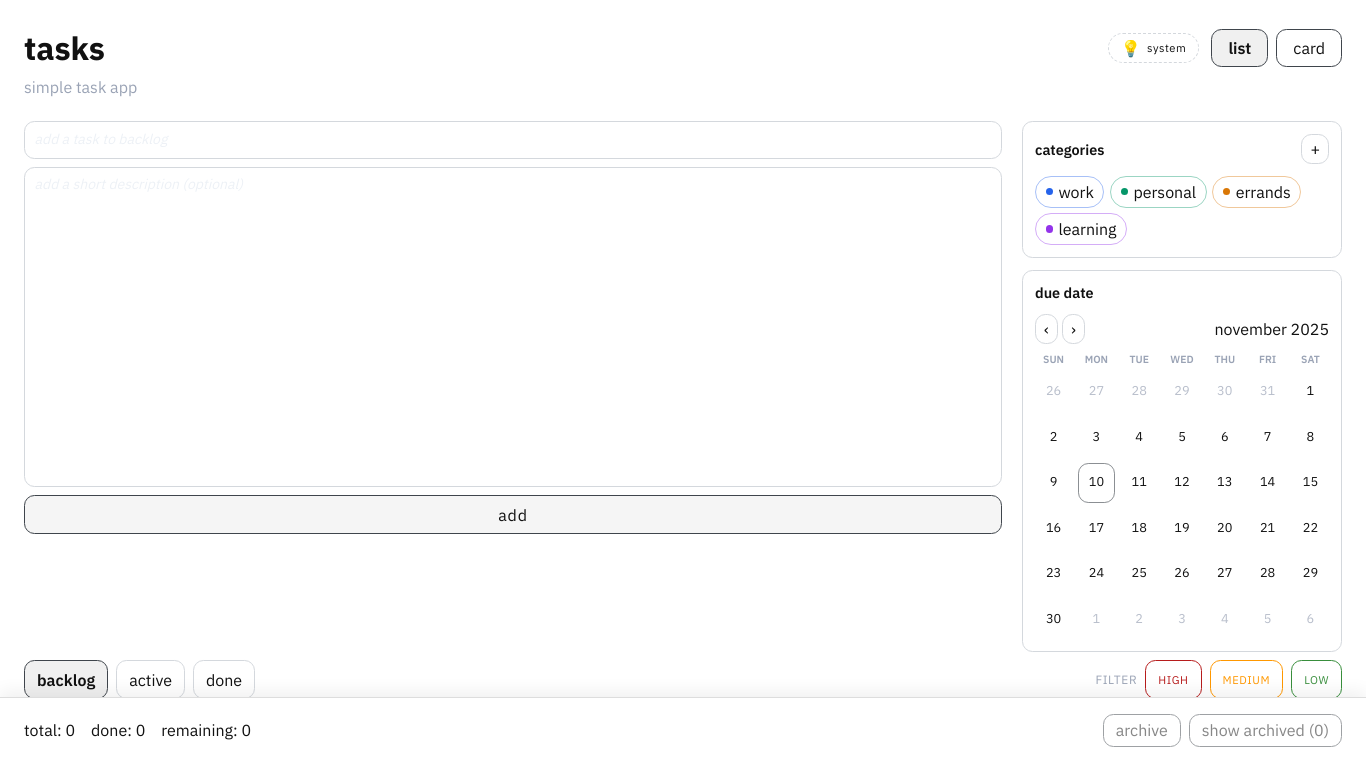
Test case: App › lets users create a custom category and apply it to a todo
Click the button named "add a new category" at (1315,149), box [1301,134,1329,164]
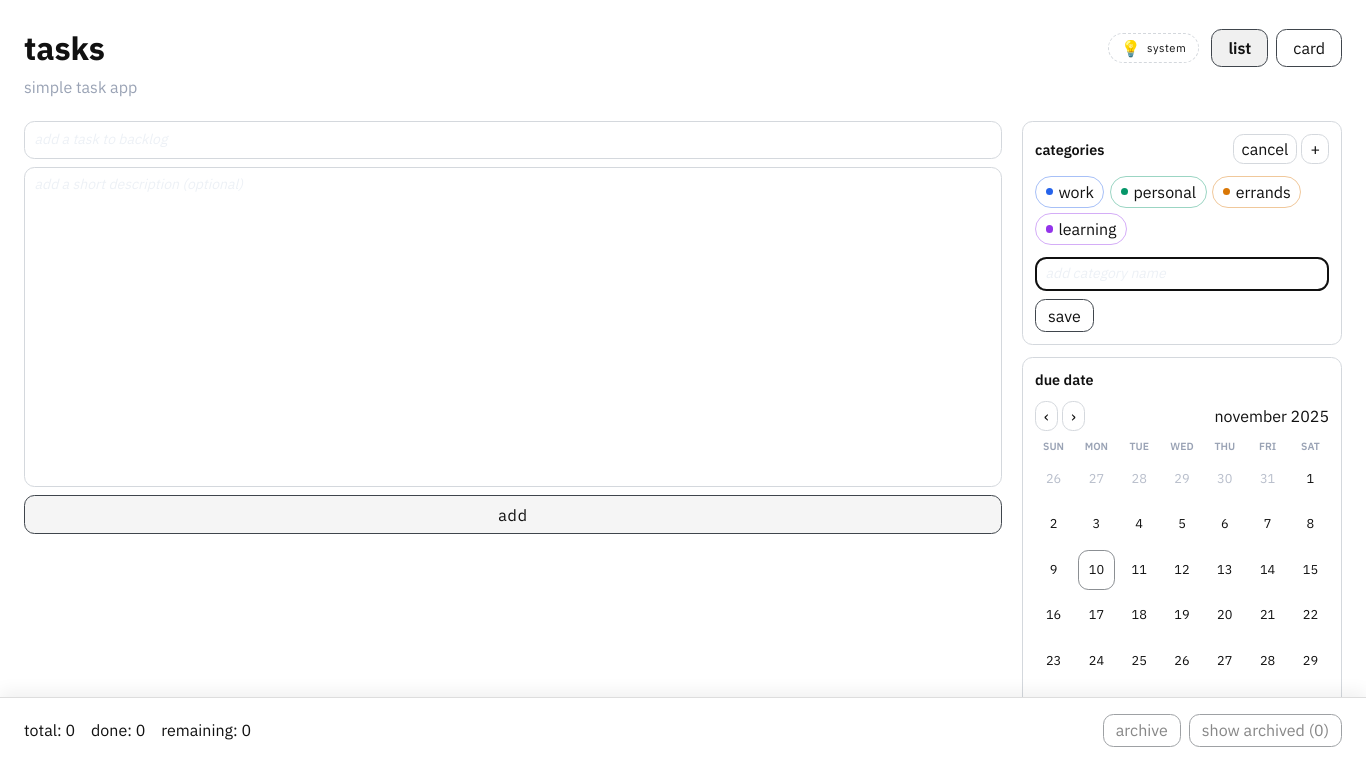
Type "fitness" into the field with placeholder "add category name" at (1182,274), box [1035,257,1329,291]
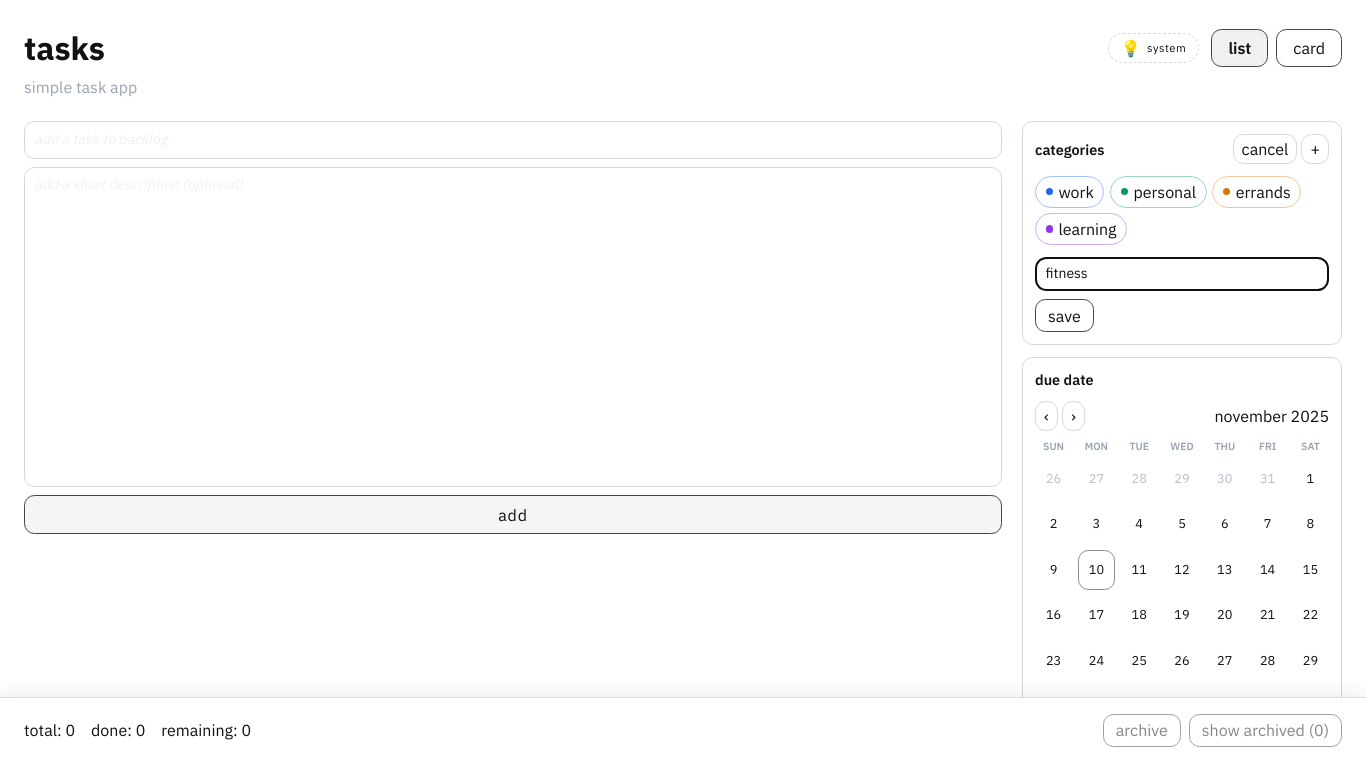
Click the button "save" at (1064,316), box [1035,299,1094,332]
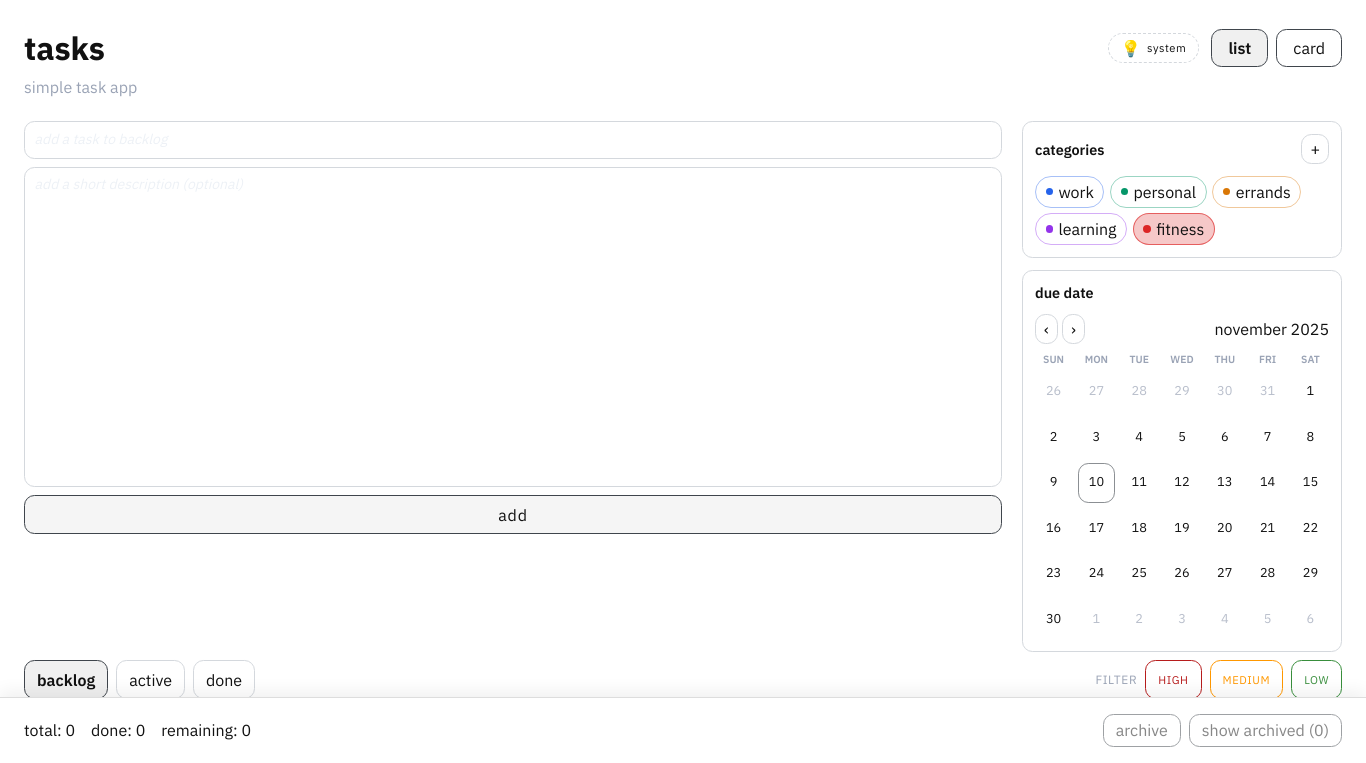
Expected: the button "fitness" is shown, [1133,213,1215,245]
Type "morning workout" into the field with placeholder "add a task to backlog" at (513,140), box [24,121,1002,159]
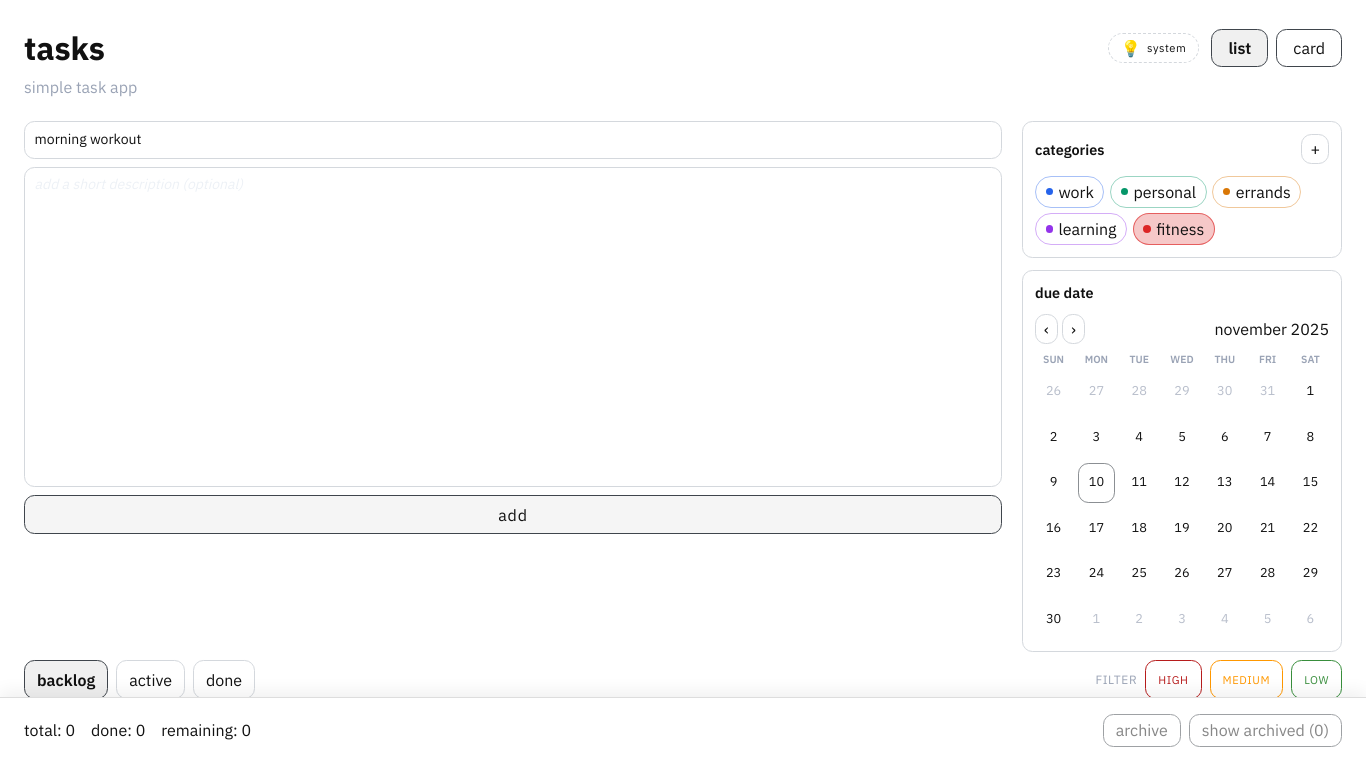
Click the button named "select" at (1054,391), box [1035,371,1072,411]
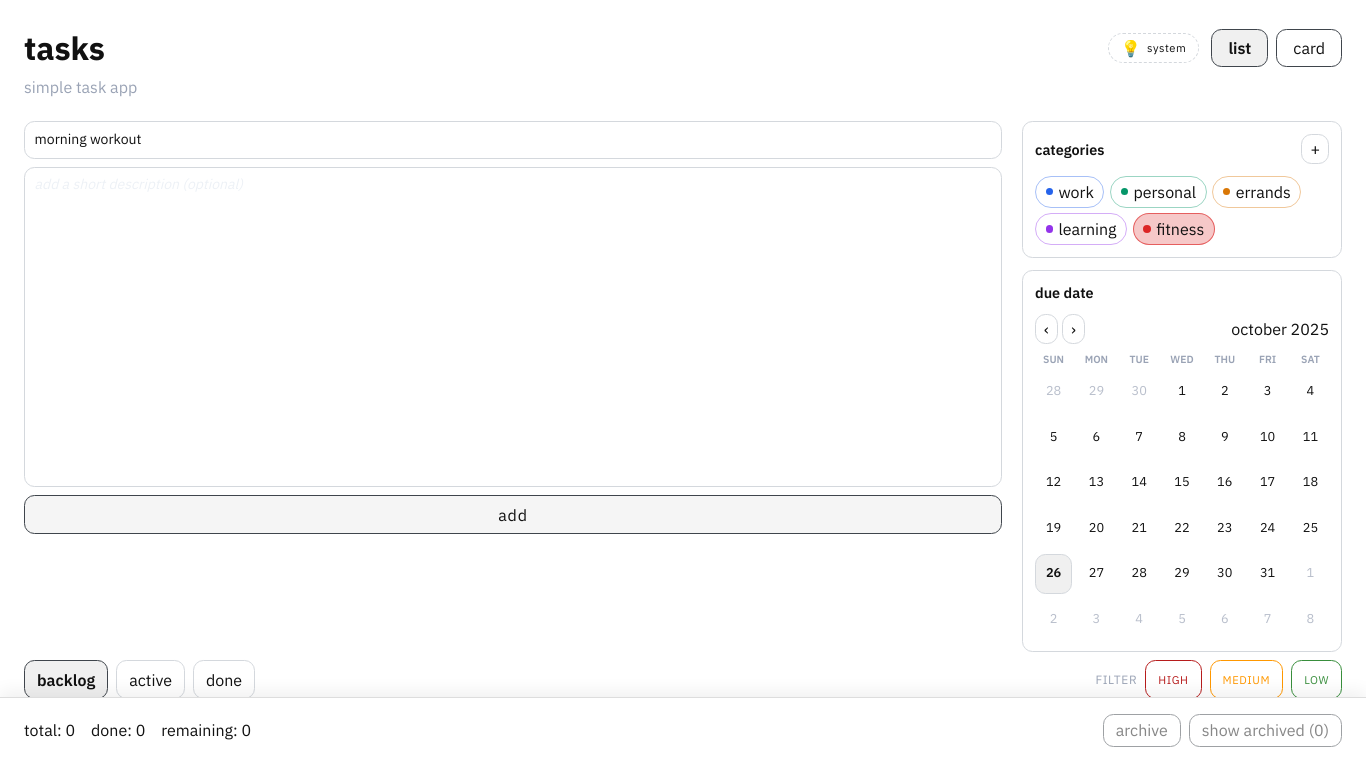
Click the button "add" at (513,515), box [24,495,1002,534]
(page scrolled)
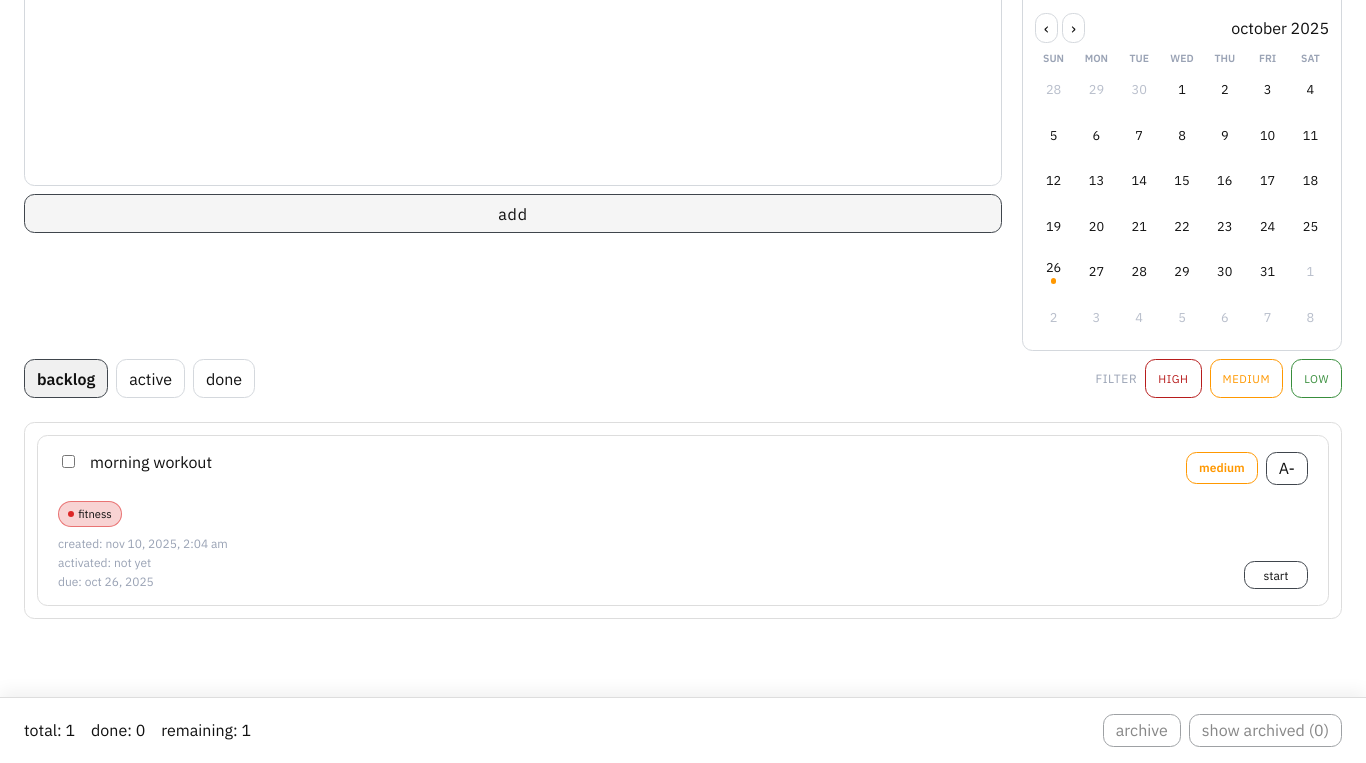
Expected: the list item "morning workout" is shown, [90,452,212,472]
Expected: the text "fitness" is shown, [58,501,122,526]
